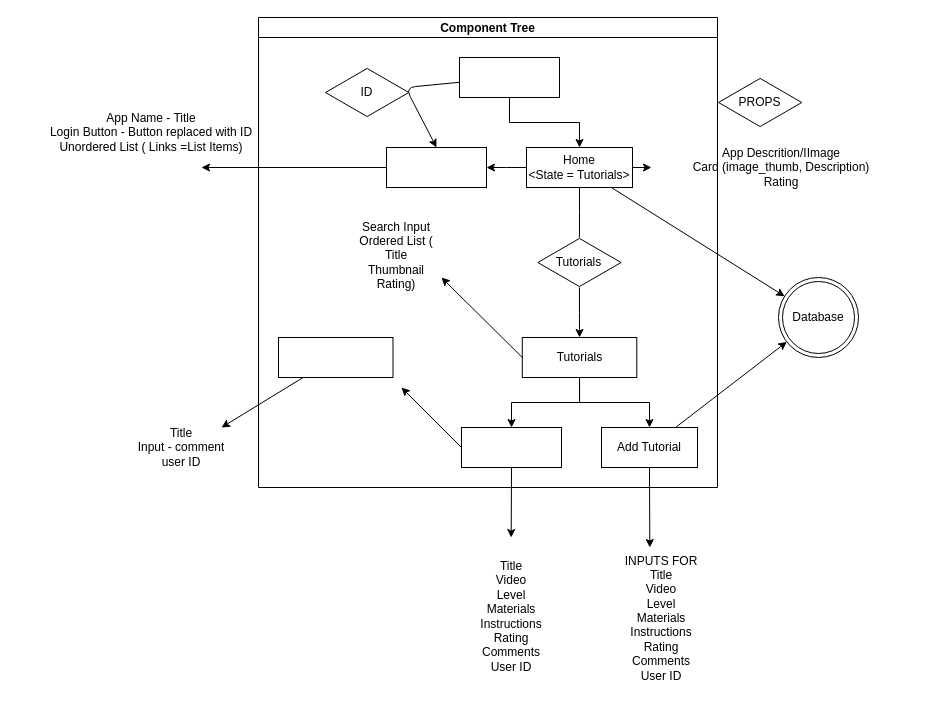
Image size: 934x706. Some labels were removed from this diagram. The shapes that lost their labels are listed below. From the top down, each one's centre as x and y in pixels, then its label:
the point at 509,77: Auth
the point at 436,167: Navbar
the point at 335,357: Add Comments
the point at 511,447: Tutorial
